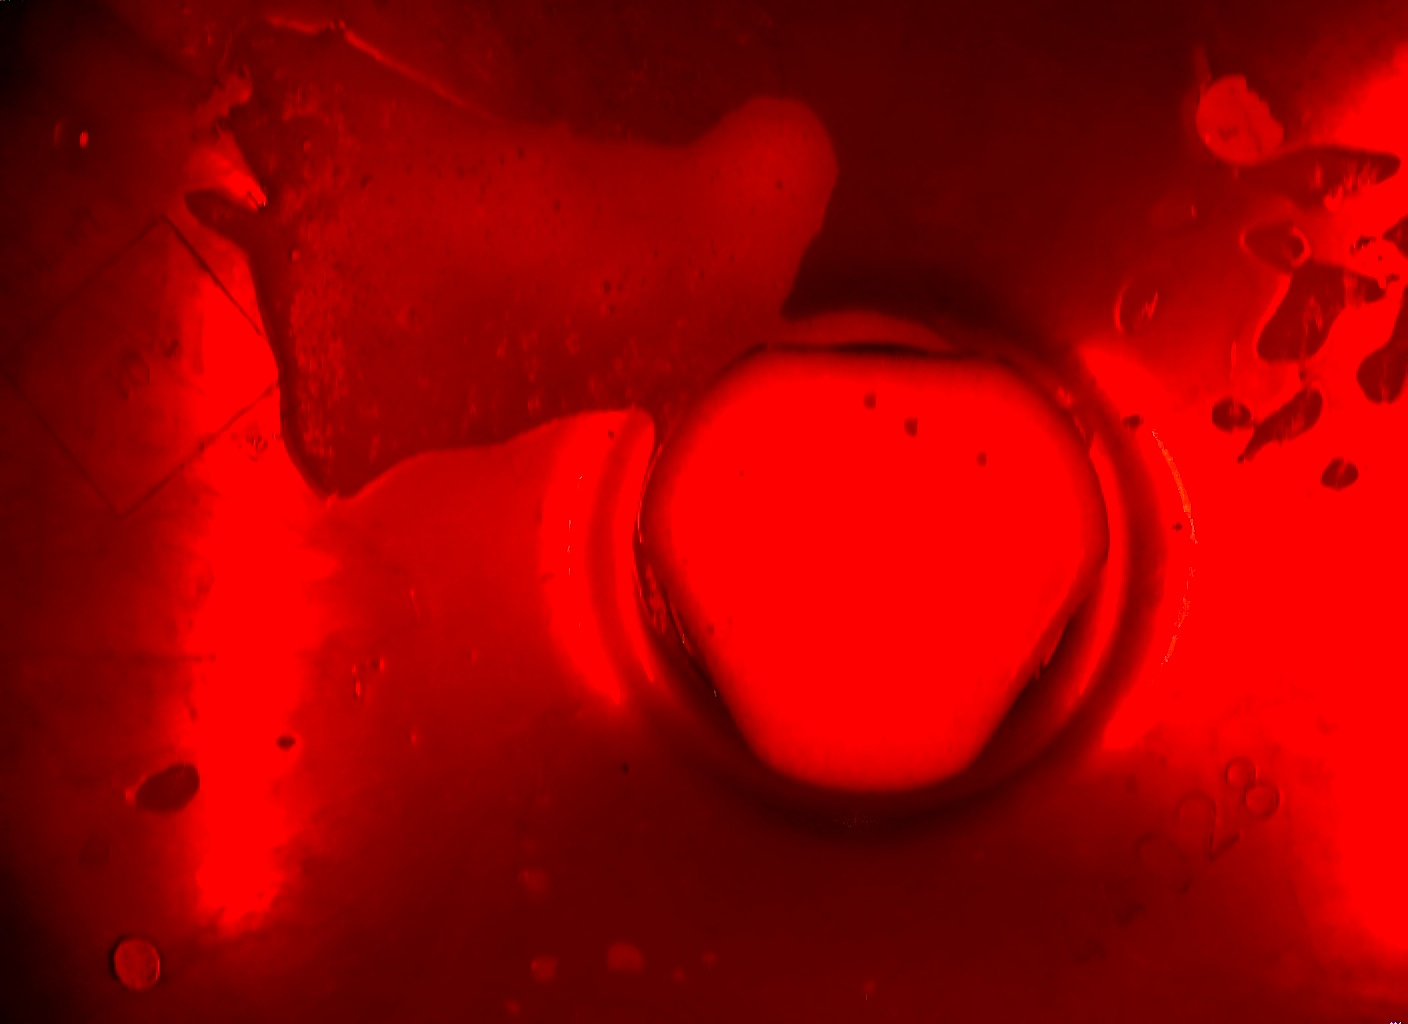pena: (190, 31, 627, 497), (579, 101, 861, 336)
shapka: (635, 342, 1120, 813)
